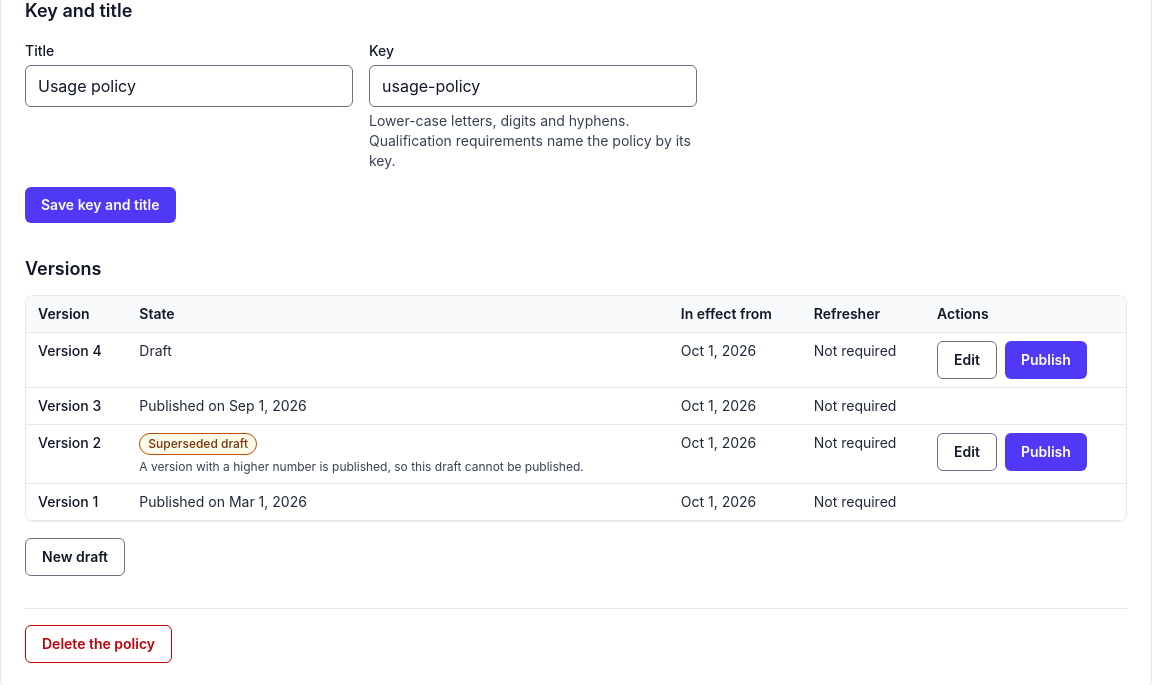
the Markdown editor › changes a draft and shows the 409 published answer
(page scrolled)
Click the button named "Edit Version 4".
click(967, 360)  # box [937, 341, 997, 379]
(page scrolled)
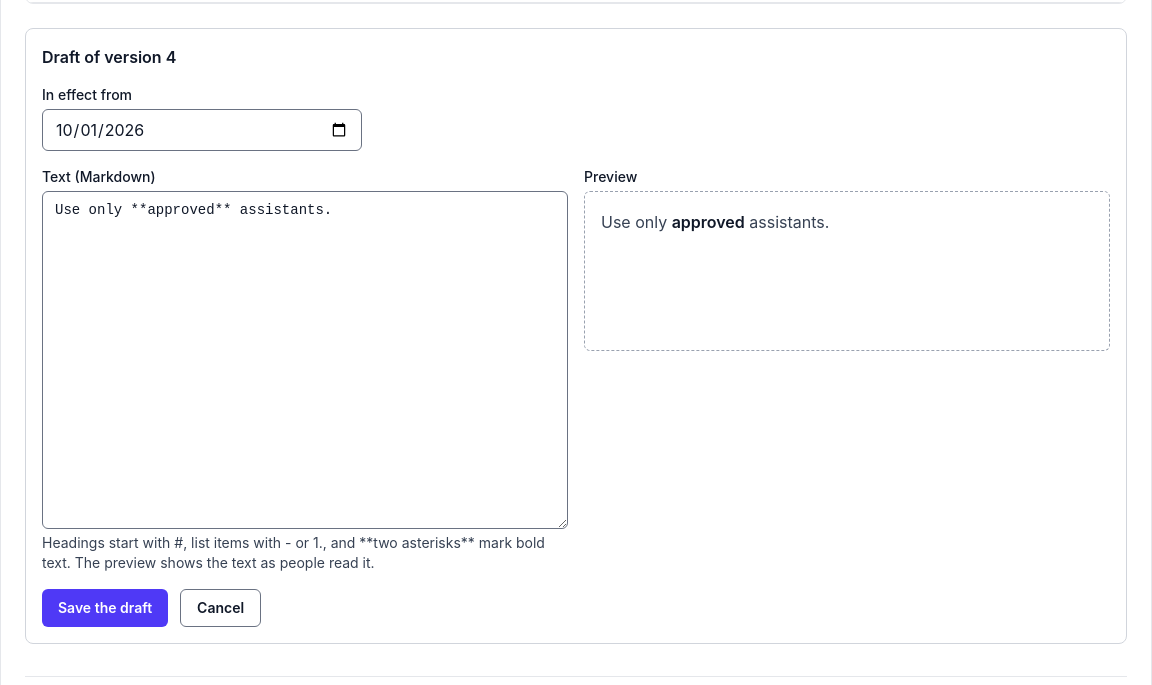
Type " Always." into the text box labelled "Text (Markdown)".
click(305, 360); type(" Always.")  # box [42, 191, 568, 529]
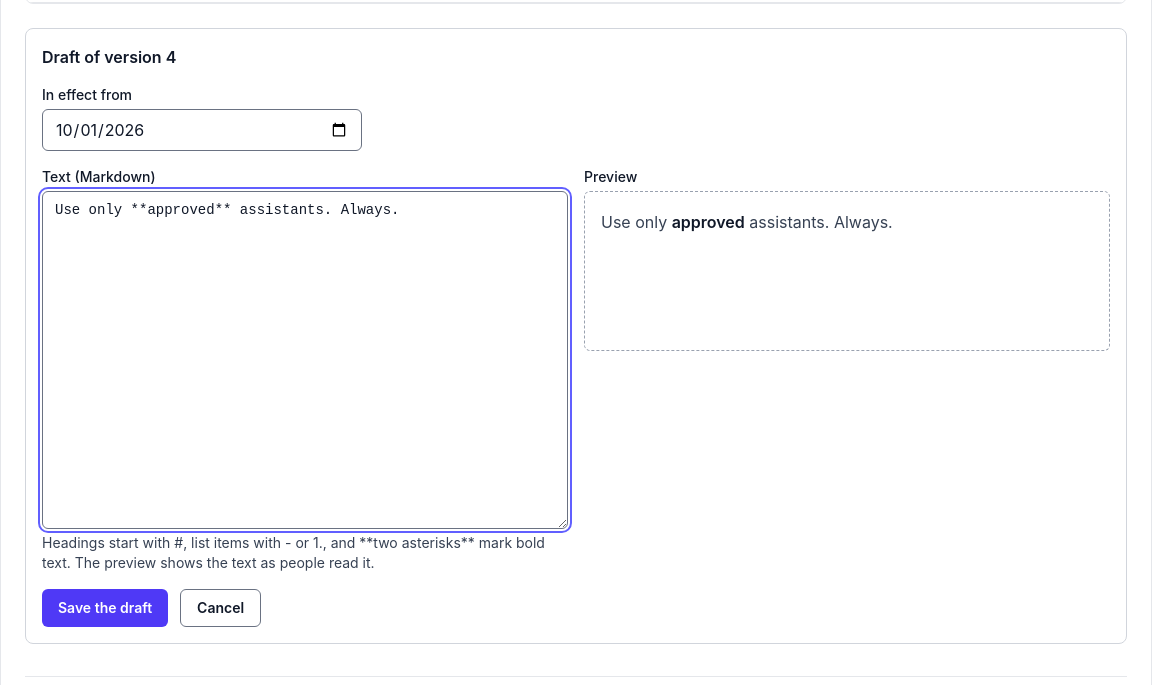
Click the button "Save the draft".
click(105, 608)  # box [42, 589, 168, 627]
(page scrolled)
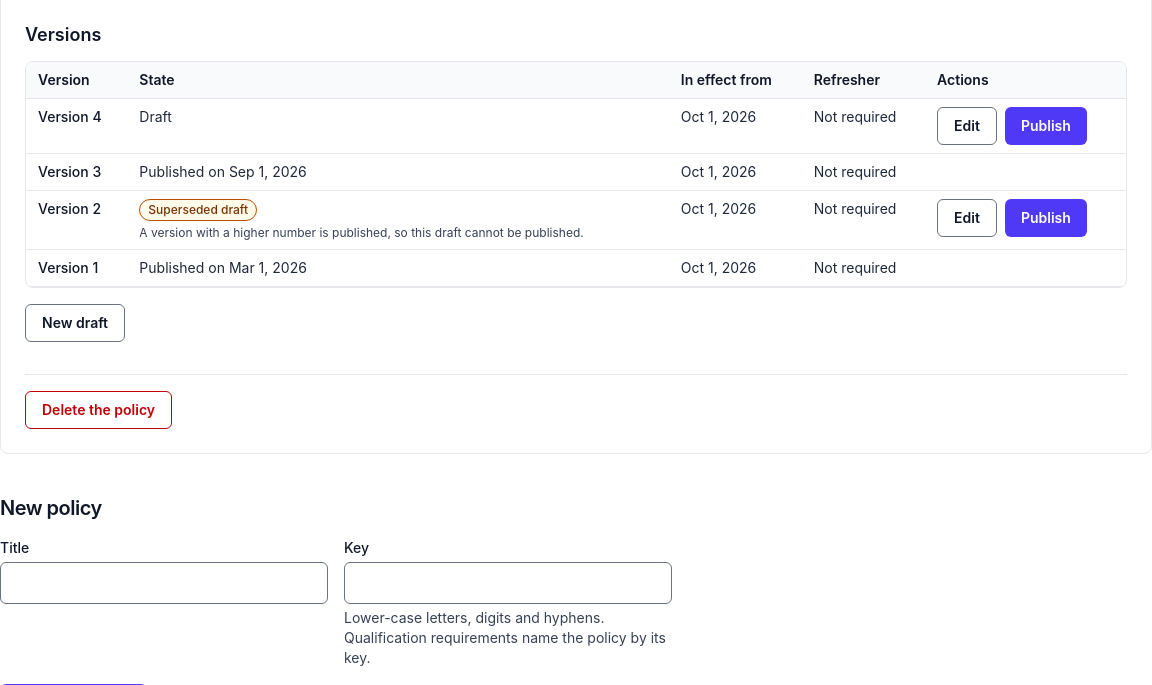
Click the button named "Edit Version 4".
click(967, 126)  # box [937, 107, 997, 145]
(page scrolled)
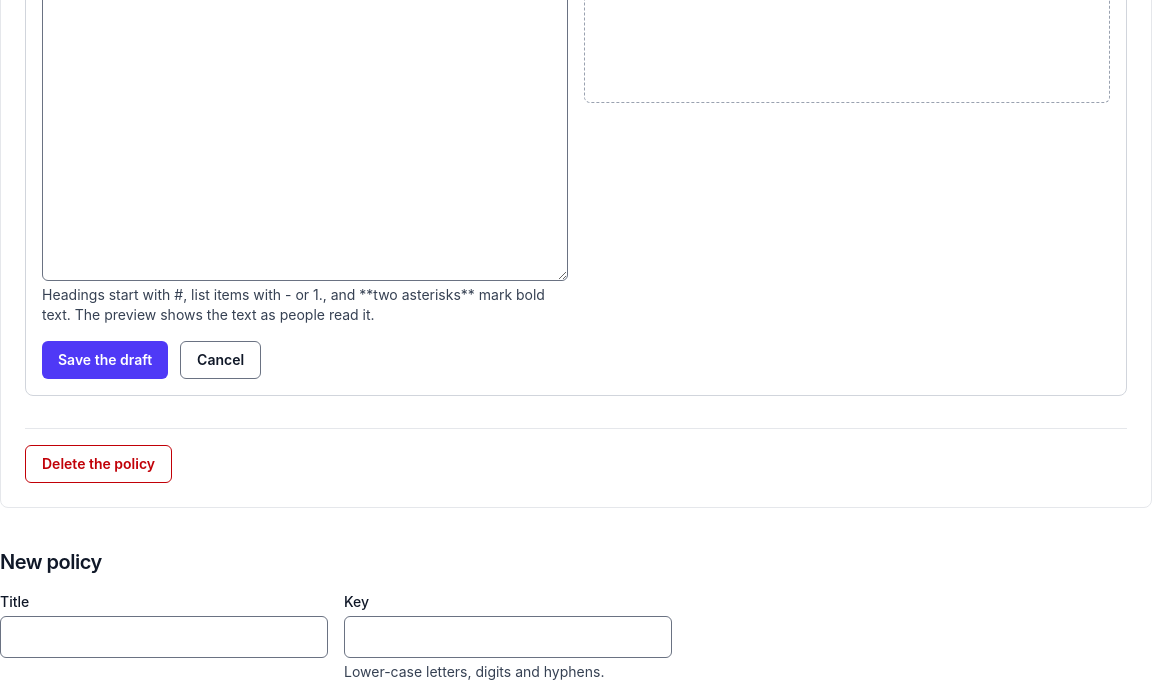
Click the button "Save the draft".
click(105, 360)  # box [42, 341, 168, 379]
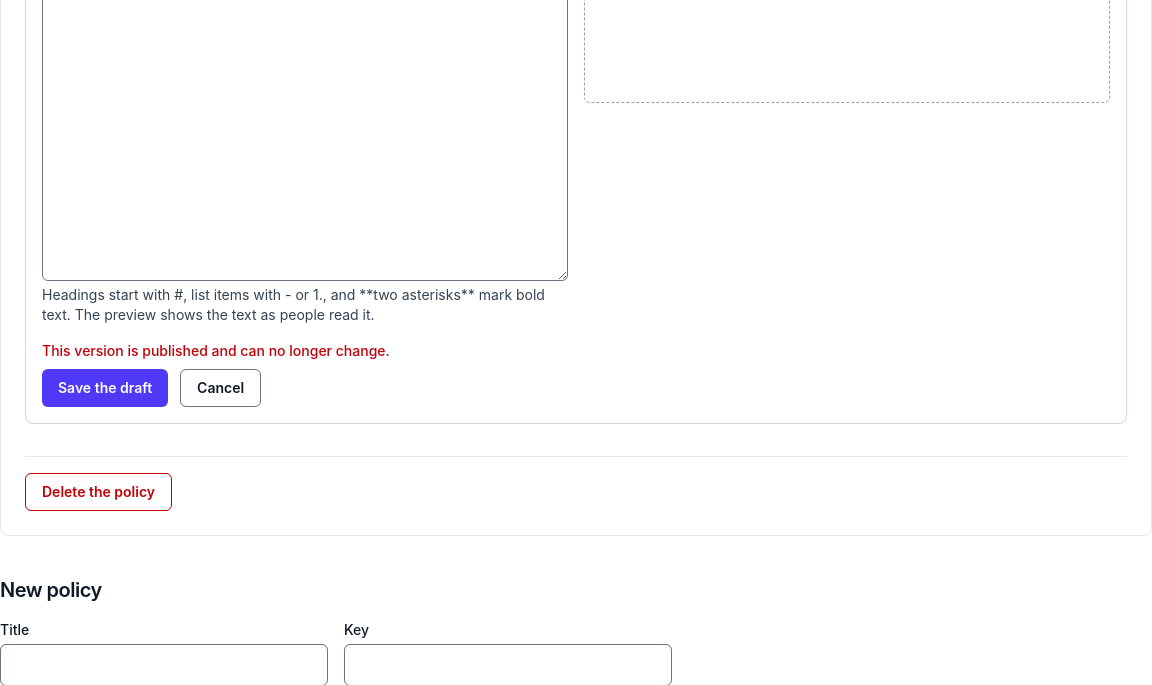
Expected: the message reads "This version is published and can no longer change.", [42, 342, 390, 359]
